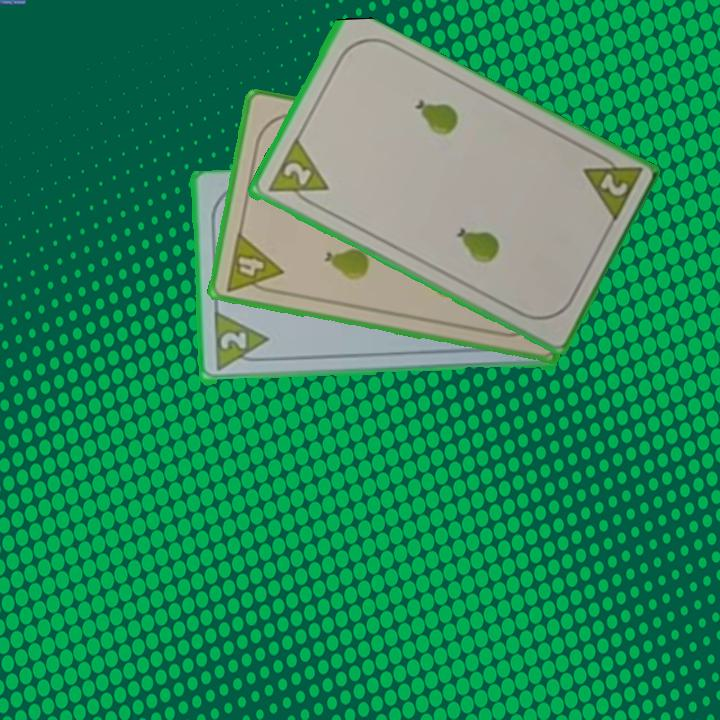2p: (578, 146, 644, 227), (263, 137, 331, 212), (210, 311, 271, 374)
4p: (222, 229, 286, 298)
